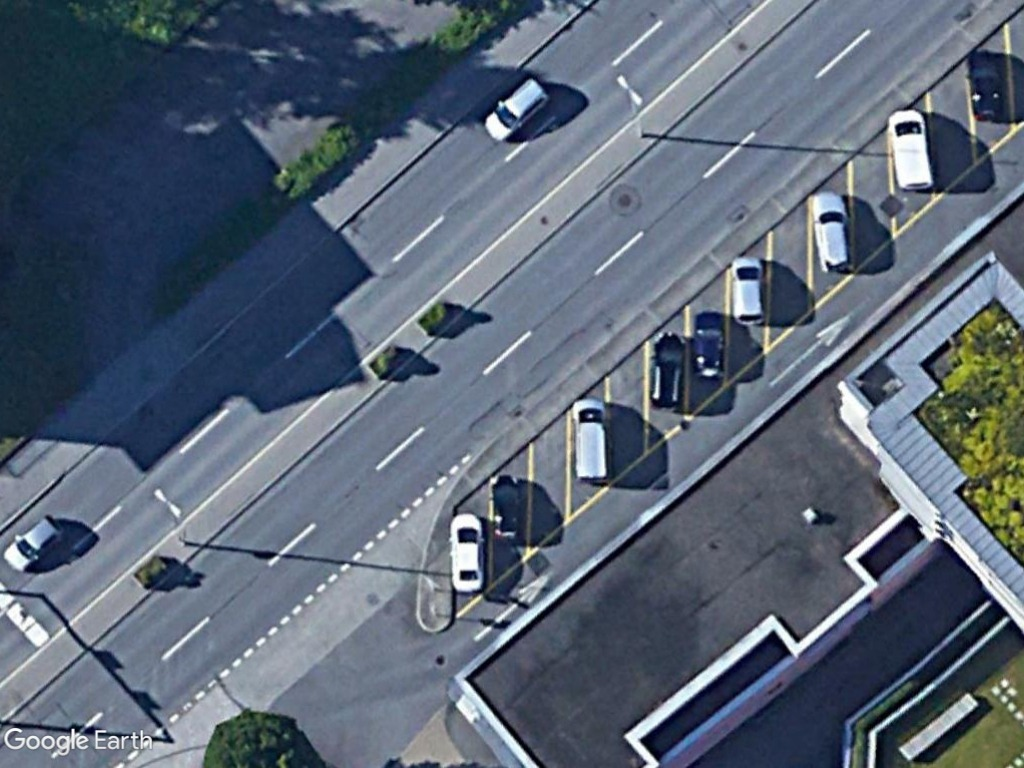car: (482, 74, 550, 145), (3, 508, 66, 577), (811, 188, 858, 277), (446, 512, 488, 596), (729, 252, 769, 330)
van: (887, 108, 937, 194), (567, 395, 612, 488)
